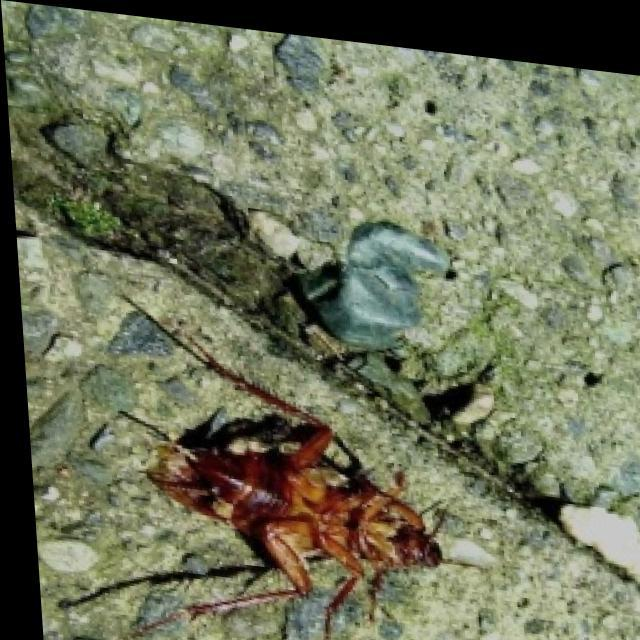cockroach: (102, 299, 489, 640)
